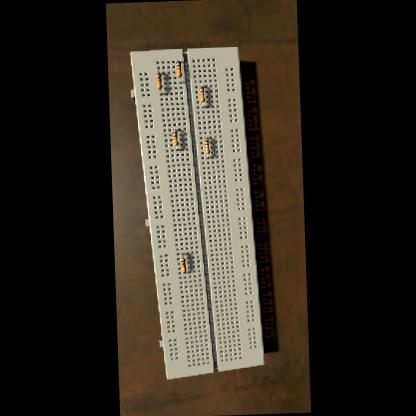breadboard: (129, 46, 265, 380)
resistor: (175, 60, 181, 78), (199, 86, 205, 102), (156, 72, 161, 89), (204, 140, 210, 154), (180, 258, 186, 272), (172, 132, 178, 146)
wire: (176, 146, 178, 152), (159, 88, 161, 94), (206, 154, 208, 158), (179, 76, 180, 84), (182, 254, 183, 258), (205, 137, 206, 139), (174, 129, 175, 131), (178, 60, 178, 60), (184, 272, 184, 274), (158, 70, 158, 72)
